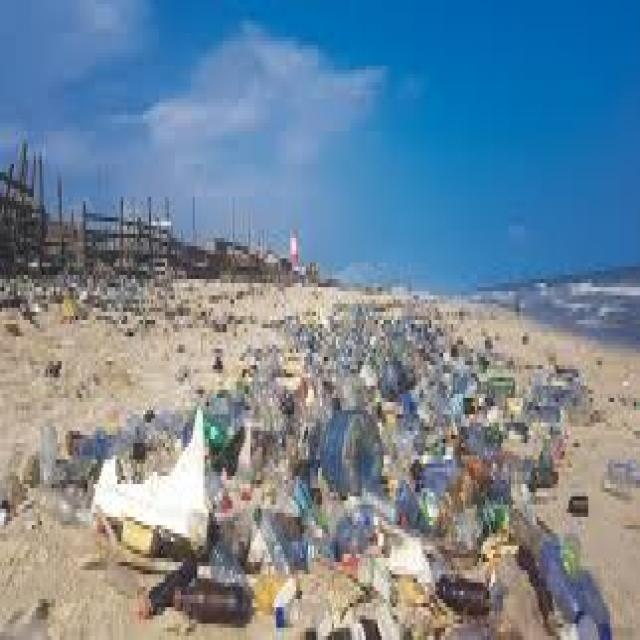heap: (305, 337, 546, 588)
